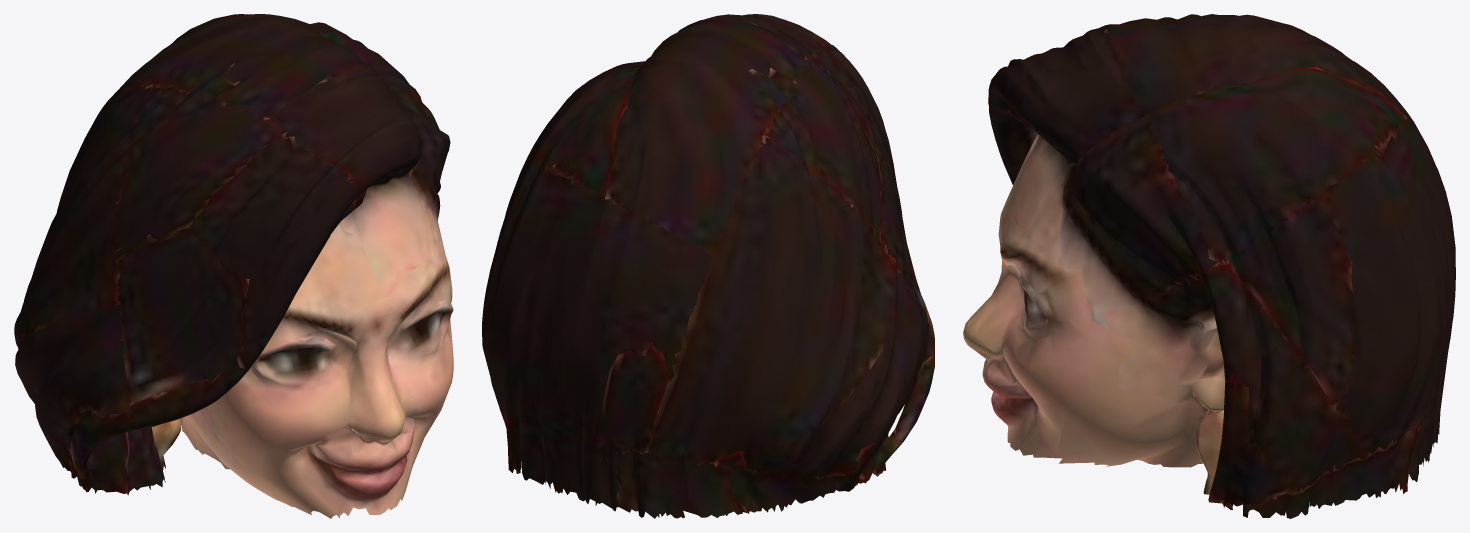
The model's file is babita.glb.
The picture shows the model from 3 angles, left to right: view 1: azimuth 30°, elevation 25°; view 2: azimuth 150°, elevation 25°; view 3: azimuth 270°, elevation 25°; orthographic projection. The views are drawn at different scales.
Visible parts, largest first — view 1: babita; view 2: babita; view 3: babita.
Part boxes in pixels (x1=…): babita: x1=14, y1=14, x2=453, y2=518; babita: x1=482, y1=14, x2=934, y2=518; babita: x1=963, y1=14, x2=1455, y2=518.
Bounding box in the file's own units: 0.2638 × 0.2598 × 0.278.
Materials: 1 (1 with a texture image).
